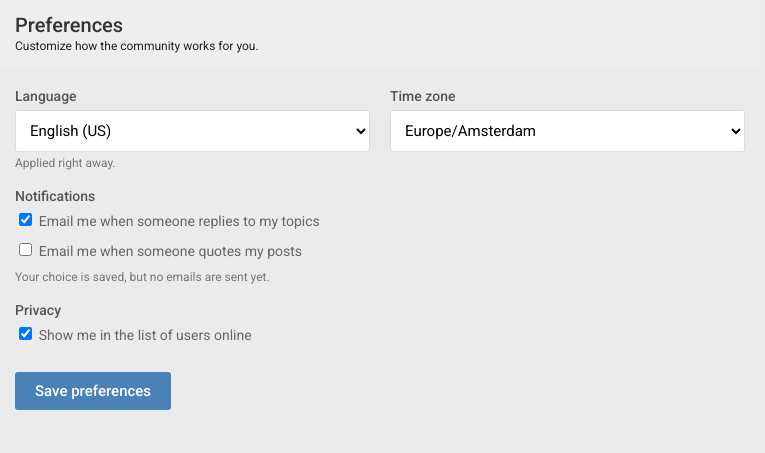
Test case: shows the stored preferences and sends only the changed ones
Expected: the checkbox labelled "Email me when someone replies to my topics" is checked, [19, 213, 32, 226]
Expected: the checkbox labelled "Email me when someone quotes my posts" is not checked, [19, 243, 32, 256]
Select "America/New_York" in the dropdown labelled "Time zone" at (568, 131), box [390, 110, 745, 152]
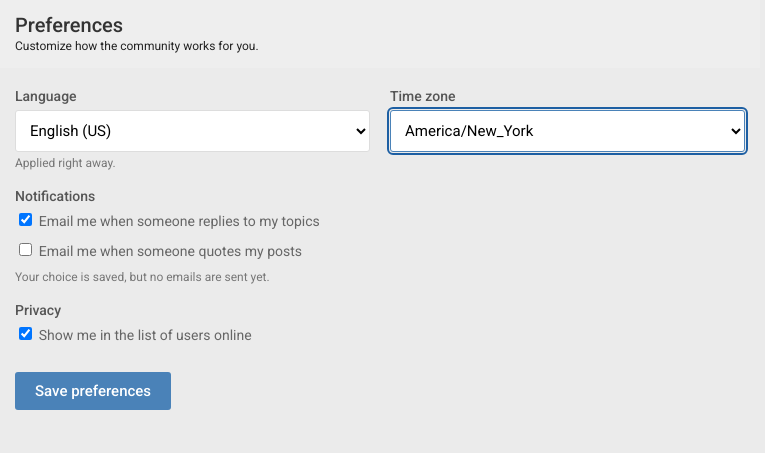
Click the checkbox labelled "Email me when someone quotes my posts" at (26, 250), box [19, 243, 32, 256]
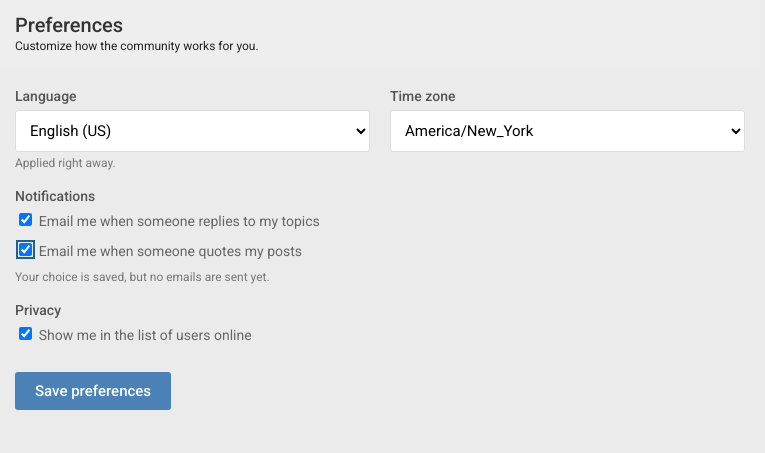
Click the checkbox labelled "Show me in the list of users online" at (26, 334), box [19, 327, 32, 340]
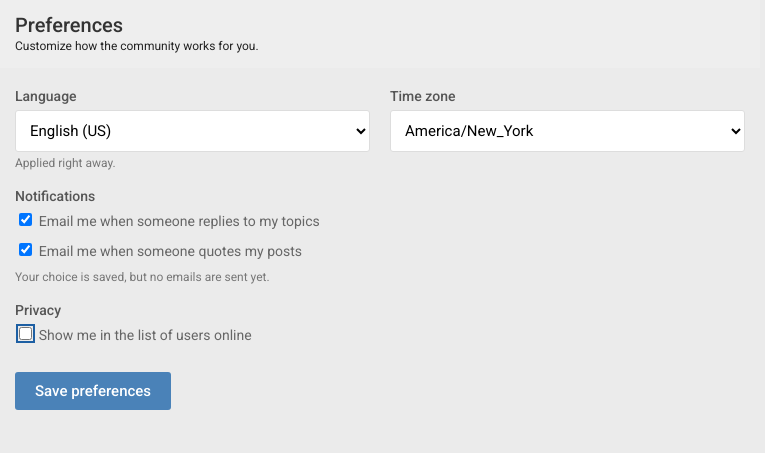
Click the button "Save preferences" at (93, 391), box [15, 372, 171, 410]
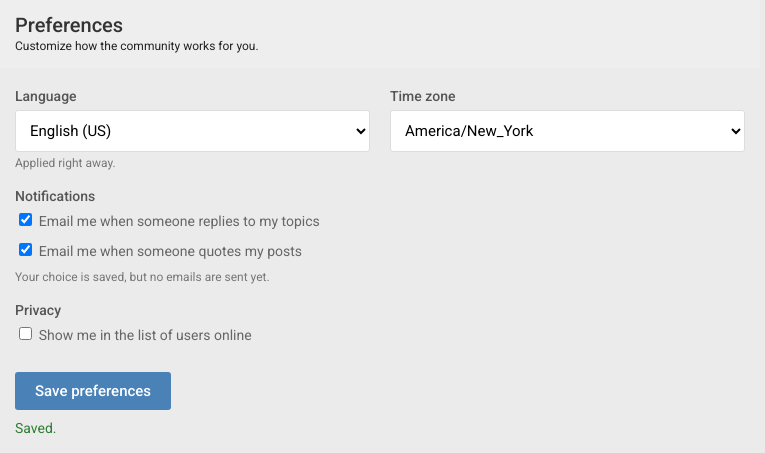
Expected: the message reads "Saved.", [15, 420, 56, 436]
